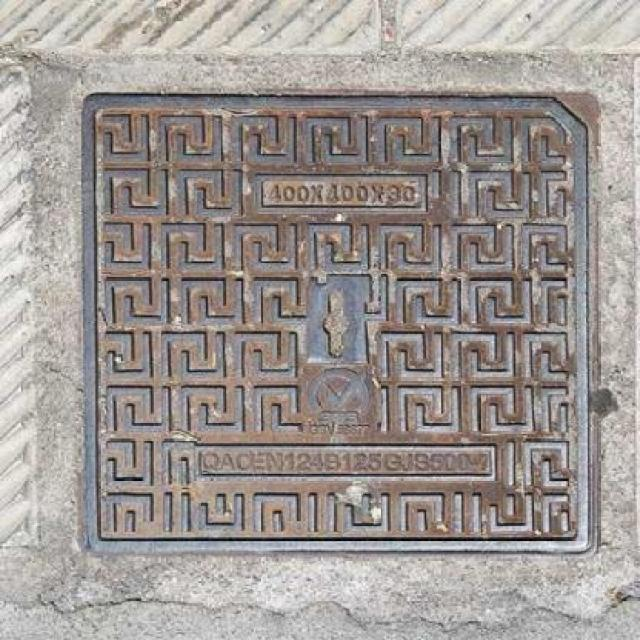Manhole: (69, 80, 612, 578)
